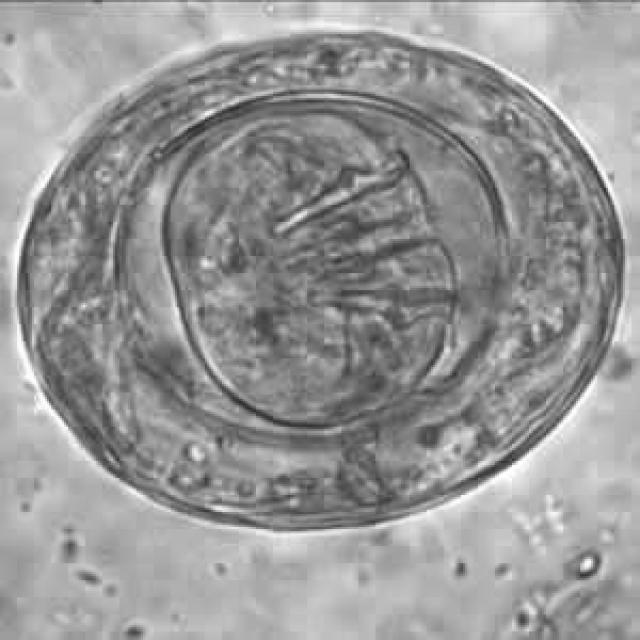Hymenolepis: (12, 20, 632, 545)
